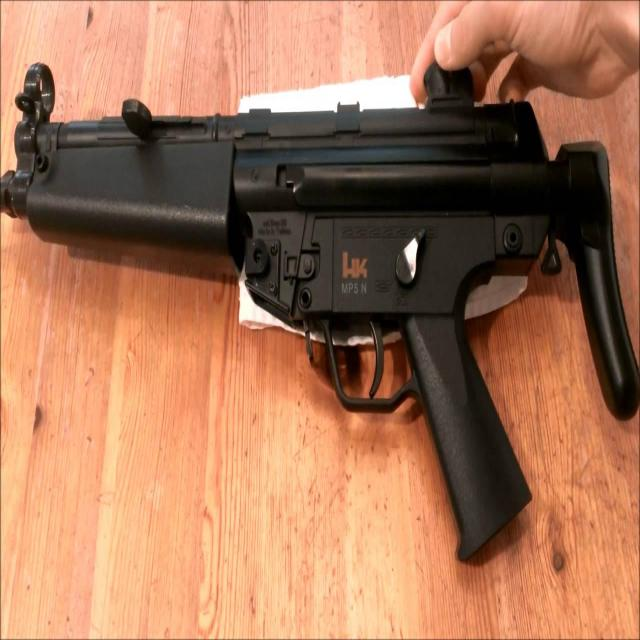SMG: (4, 63, 640, 562)
